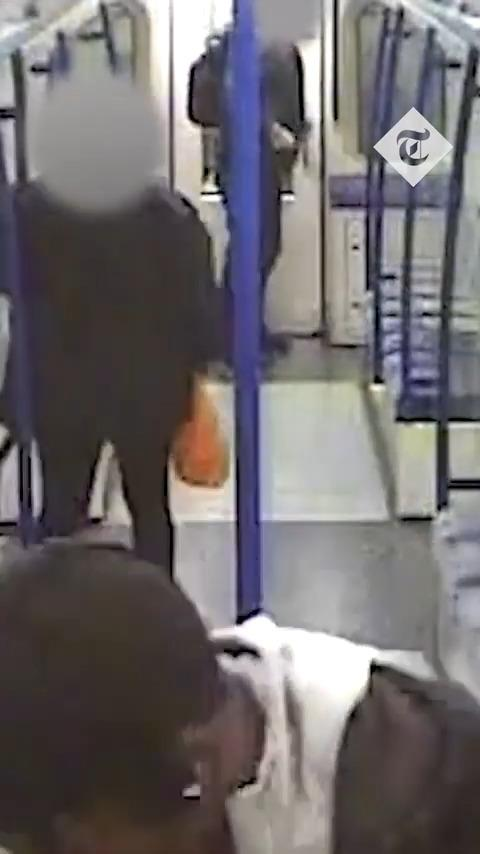non-violence: (0, 540, 480, 854), (1, 181, 223, 585), (189, 39, 308, 348)
